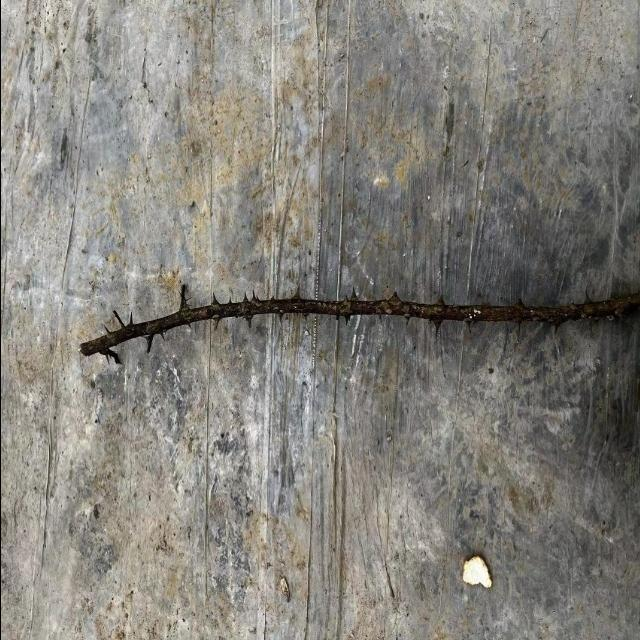branch: (79, 293, 640, 357)
